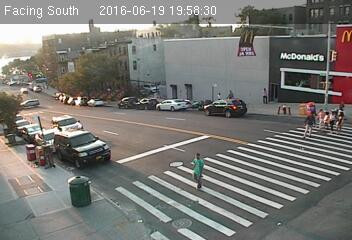neg: (260, 183, 289, 222), (89, 108, 112, 139), (148, 68, 171, 99), (71, 177, 92, 205), (271, 100, 292, 128), (25, 140, 46, 168), (237, 22, 257, 49), (182, 78, 201, 104), (94, 48, 113, 73), (223, 100, 241, 124), (48, 102, 66, 125), (274, 46, 291, 69), (240, 144, 257, 167), (141, 203, 158, 226), (18, 60, 35, 82), (179, 209, 194, 229), (312, 61, 326, 80)
pos: (180, 147, 211, 188), (299, 108, 323, 139), (326, 106, 342, 127), (256, 83, 271, 103), (320, 109, 334, 127)
